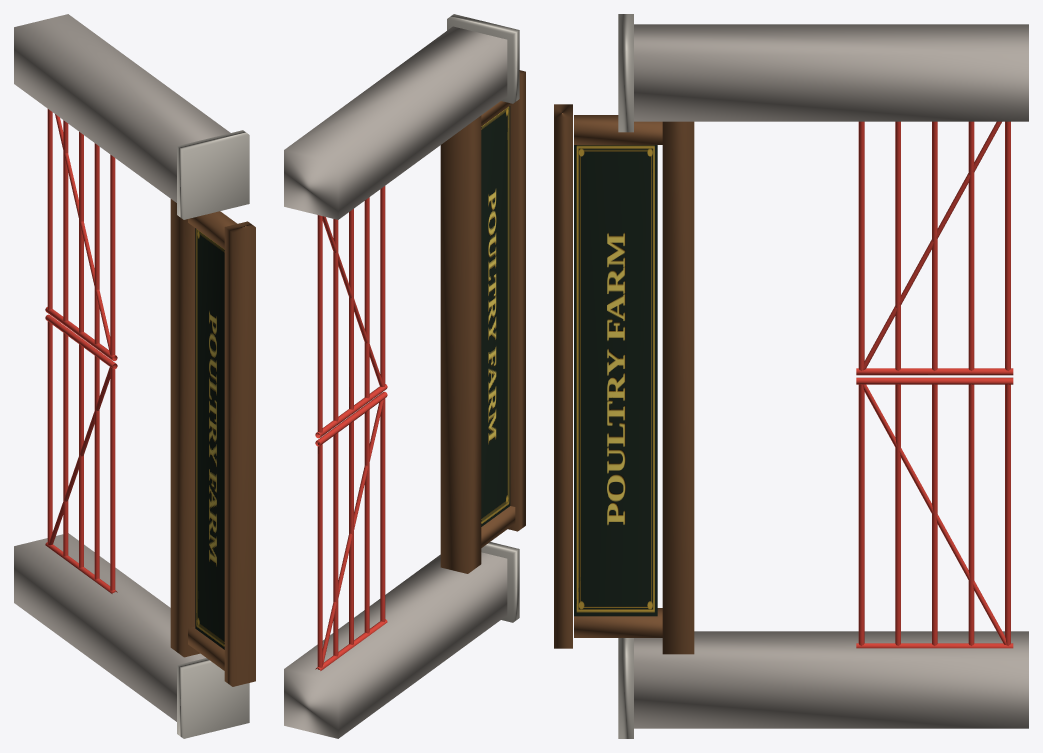
Rendered from farm_entrance_gate.obj.
3 views of the same model, side by side, from view 1: azimuth 30°, elevation 25°; view 2: azimuth 150°, elevation 25°; view 3: azimuth 270°, elevation 25° (orthographic). The views are drawn at different scales.
Bounding box in the file's own units: 0.85 × 7.25 × 4.54.
5 materials, 1 textured.
